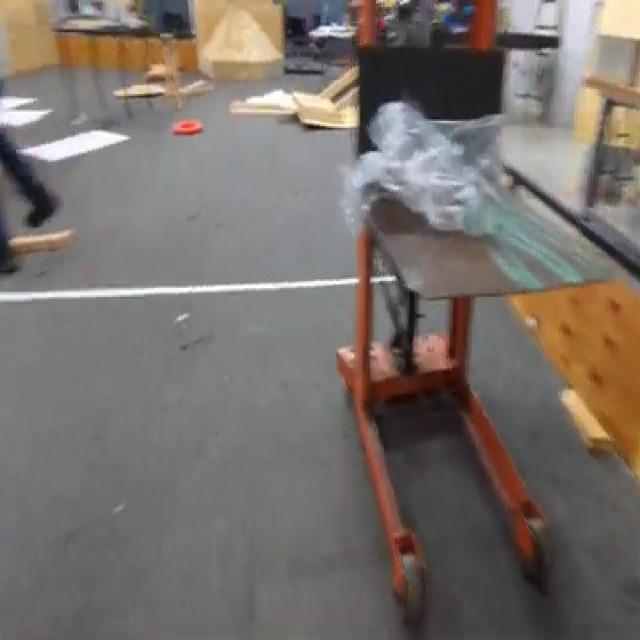note: (170, 118, 202, 138)
